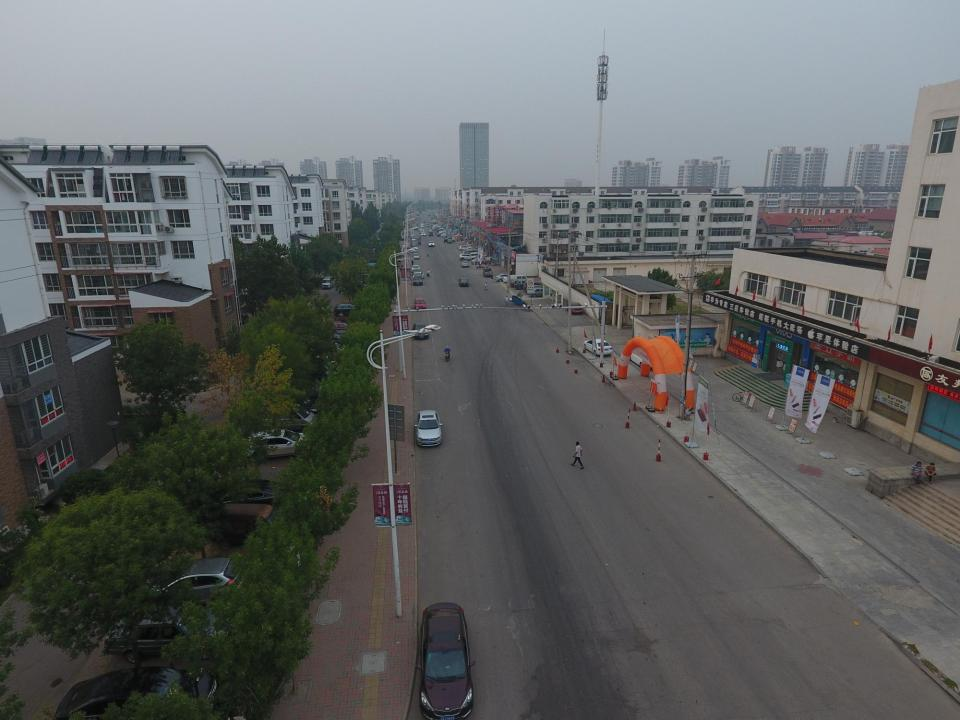car: (53, 666, 218, 720), (104, 606, 232, 663), (415, 602, 476, 719), (138, 558, 248, 610), (190, 480, 300, 521), (230, 429, 313, 463), (414, 410, 444, 447), (584, 338, 613, 356), (411, 322, 429, 340), (527, 288, 553, 298), (566, 302, 584, 314), (514, 280, 534, 290), (522, 282, 544, 291), (413, 298, 427, 310), (510, 278, 531, 286), (494, 274, 514, 282), (503, 275, 522, 282), (459, 254, 476, 260), (413, 276, 423, 285), (459, 278, 468, 287), (482, 268, 492, 276), (458, 245, 472, 250), (412, 268, 420, 276), (414, 272, 424, 278), (411, 265, 420, 271), (461, 261, 469, 267), (413, 253, 419, 259), (428, 241, 434, 246), (447, 238, 452, 243), (412, 242, 417, 247), (411, 236, 416, 241), (428, 232, 434, 236), (410, 248, 416, 252), (421, 232, 426, 236)
van: (207, 503, 283, 550), (250, 403, 317, 435), (335, 303, 361, 316), (322, 276, 334, 288), (510, 276, 528, 284), (426, 223, 429, 227)
